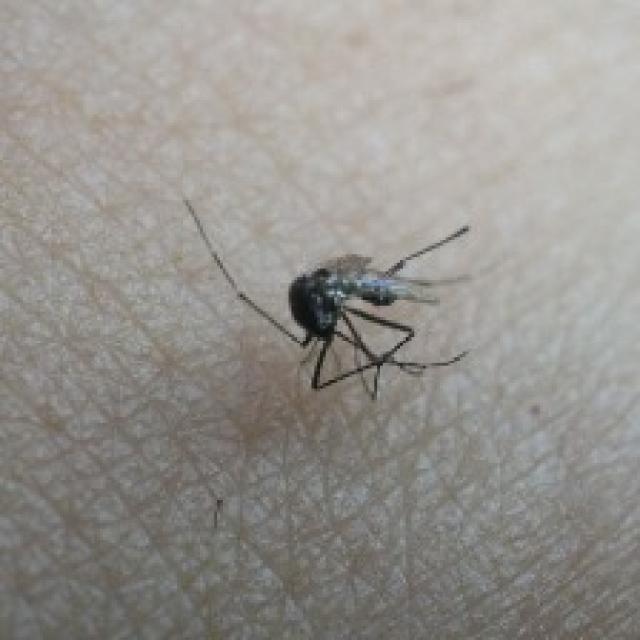aedes: (177, 191, 474, 400)
